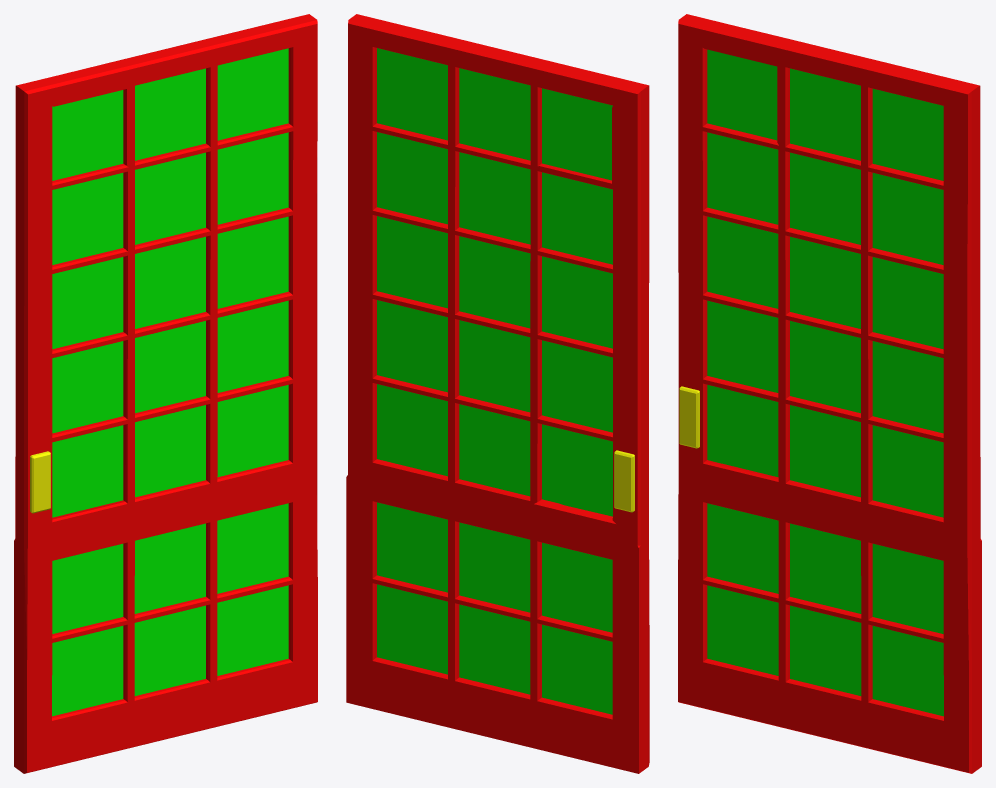
Rendered from doorway_door_5.glb.
3 renders of one model, left to right at view 1: azimuth 30°, elevation 25°; view 2: azimuth 150°, elevation 25°; view 3: azimuth 330°, elevation 25°, orthographic.
Parts seen in each view (by area): view 1: doorway_door_5; view 2: doorway_door_5; view 3: doorway_door_5.
Part boxes in pixels (<box>): doorway_door_5: <box>14,14,317,773</box>; doorway_door_5: <box>346,14,649,773</box>; doorway_door_5: <box>678,14,981,773</box>.
Size of the model in its own units: 0.9141 by 2.03 by 0.0899.
